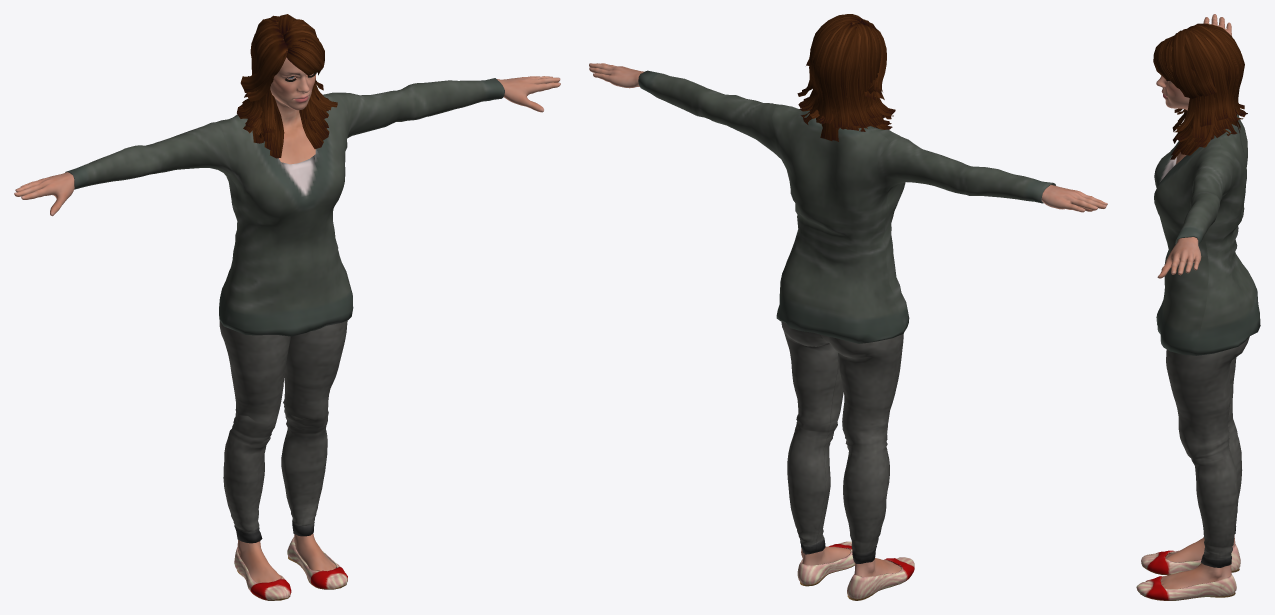
Rendered from BGFemale4.obj.
3 views of the same model, side by side, from view 1: azimuth 30°, elevation 25°; view 2: azimuth 150°, elevation 25°; view 3: azimuth 270°, elevation 25° (orthographic).
Visible parts, largest first — view 1: Tops, Bottoms, Hair, Body, Shoes; view 2: Tops, Bottoms, Hair, Body, Shoes; view 3: Tops, Bottoms, Hair, Body, Shoes.
Boxes of the visible parts, x1,y1,x2,y2 form: Tops: (65, 78, 504, 336); Bottoms: (219, 320, 347, 543); Hair: (237, 14, 337, 158); Body: (14, 39, 560, 583); Shoes: (234, 536, 347, 600); Tops: (638, 70, 1055, 343); Bottoms: (781, 321, 903, 563); Hair: (797, 14, 895, 141); Body: (589, 63, 1107, 576); Shoes: (797, 541, 914, 600); Tops: (1154, 114, 1260, 355); Bottoms: (1166, 336, 1249, 567); Hair: (1153, 23, 1247, 159); Body: (1156, 14, 1235, 589); Shoes: (1136, 544, 1240, 600).
Bounding box in the file's own units: 168 × 169 × 34.08.
